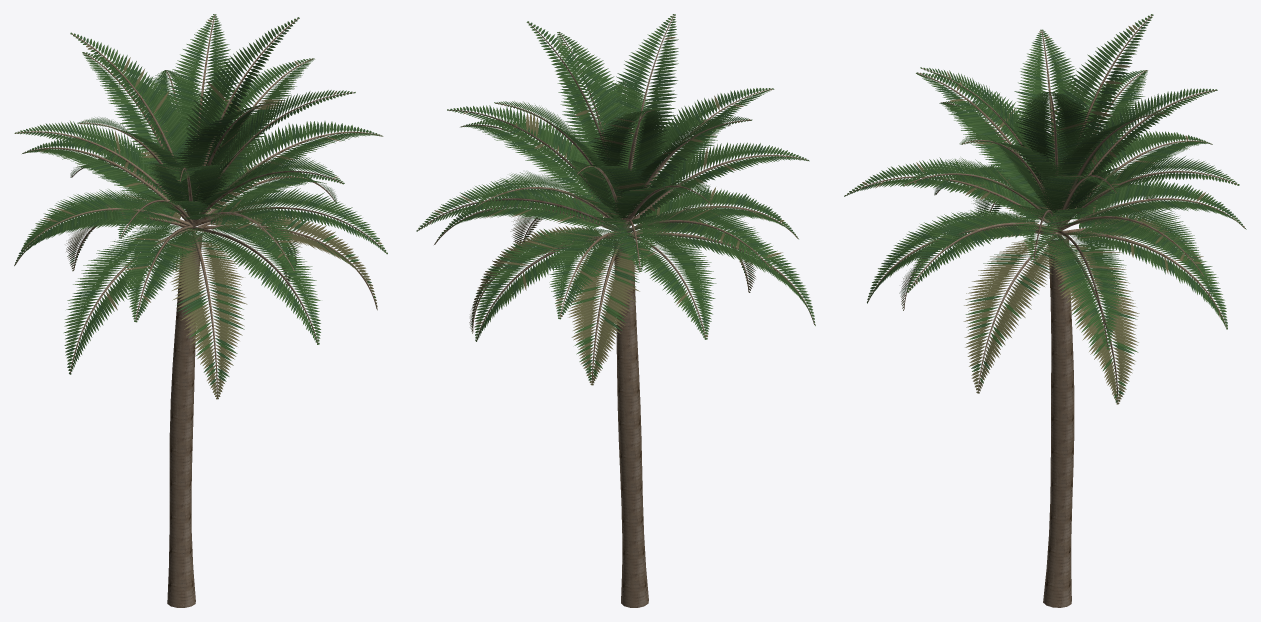
The model's file is oil_palm.glb.
3 renders of one model, left to right at view 1: azimuth 30°, elevation 25°; view 2: azimuth 150°, elevation 25°; view 3: azimuth 270°, elevation 25°, orthographic. The views are drawn at different scales.
Visible parts, largest first — view 1: oil_palm; view 2: oil_palm; view 3: oil_palm.
Boxes of the visible parts, x1,y1,x2,y2 form: oil_palm: (14,14,387,607); oil_palm: (416,14,815,607); oil_palm: (844,14,1246,607).
Bounding box in the file's own units: 7.54 × 11.86 × 7.64.
2 materials, 2 textured.
